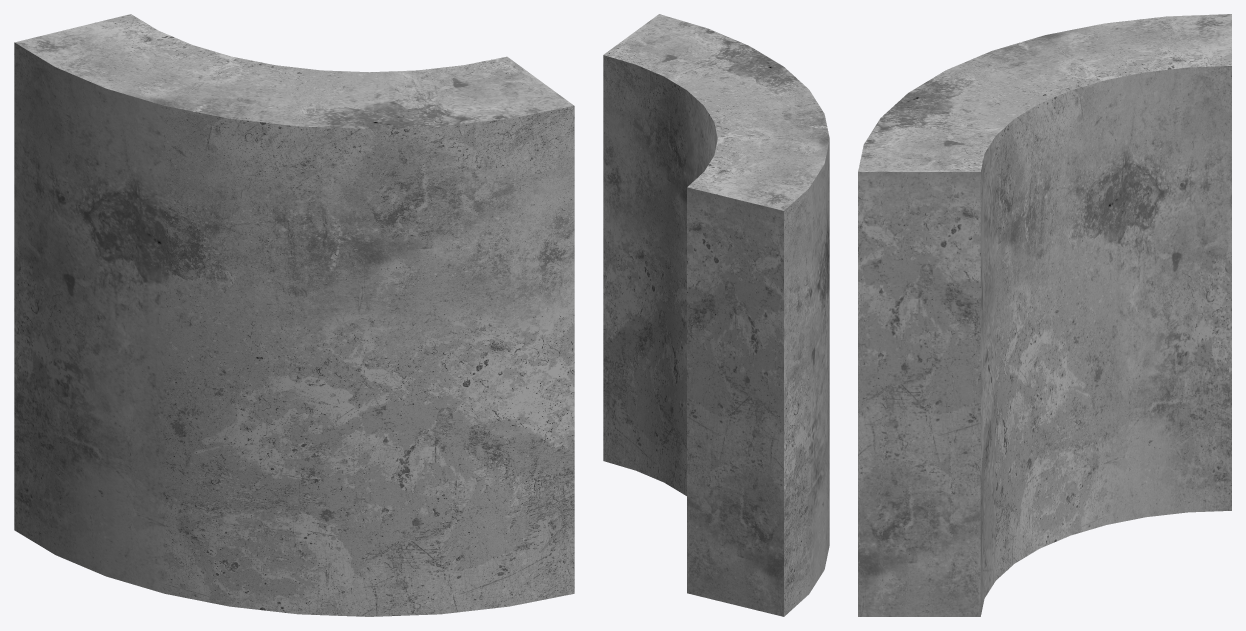
File: SM_Wallkit_Round_01b.fbx
3 renders of one model, left to right at view 1: azimuth 30°, elevation 25°; view 2: azimuth 150°, elevation 25°; view 3: azimuth 270°, elevation 25°, orthographic. The views are drawn at different scales.
Parts seen in each view (by area): view 1: SM_Wallkit_Round_01b_LOD0; view 2: SM_Wallkit_Round_01b_LOD0; view 3: SM_Wallkit_Round_01b_LOD0.
Part boxes in pixels (x1,y1,x2,y2): SM_Wallkit_Round_01b_LOD0: (14, 14, 574, 616); SM_Wallkit_Round_01b_LOD0: (603, 14, 829, 616); SM_Wallkit_Round_01b_LOD0: (858, 14, 1231, 616).
Size of the model in its own units: 305 by 305 by 400.
